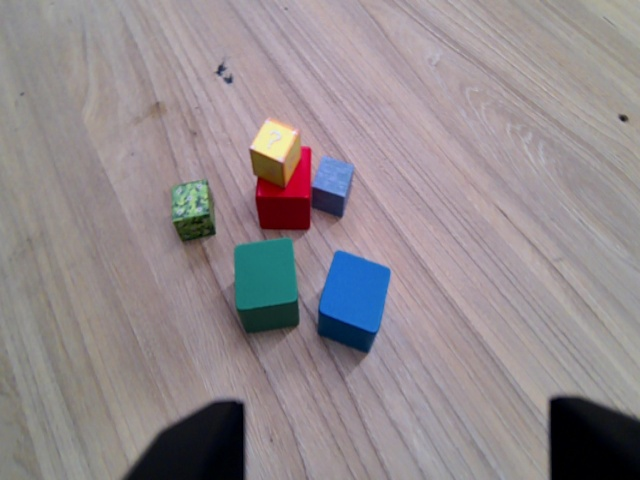grass: (165, 179, 222, 245)
lucky: (247, 115, 308, 187)
stone: (307, 150, 358, 222)
